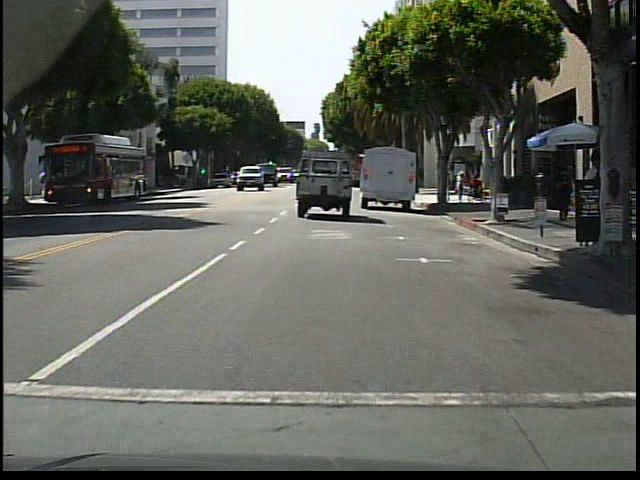person: (579, 150, 608, 243), (555, 168, 573, 222), (454, 170, 466, 205), (444, 166, 454, 203), (39, 170, 49, 198)
